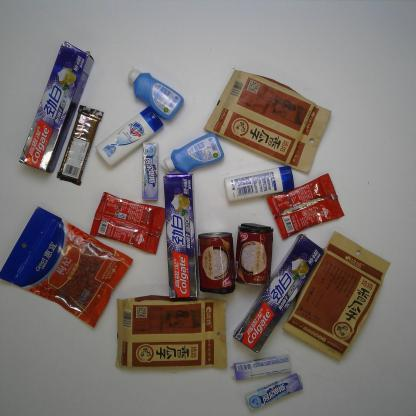Candy: (244, 373, 304, 412), (233, 352, 292, 382), (140, 140, 161, 202)
Canned Food: (197, 230, 236, 295), (235, 222, 274, 286)
Chocolate: (57, 104, 104, 185)
Dried Food: (282, 229, 391, 363), (203, 69, 333, 175), (113, 295, 230, 371)
Dried Fruit: (2, 206, 134, 329)
Instant Drink: (265, 172, 344, 241), (88, 190, 166, 256)
Personal Hygiene: (232, 234, 324, 354), (17, 41, 96, 175), (162, 172, 199, 300), (94, 105, 164, 168), (125, 66, 184, 122), (220, 165, 297, 203), (160, 132, 225, 176)
